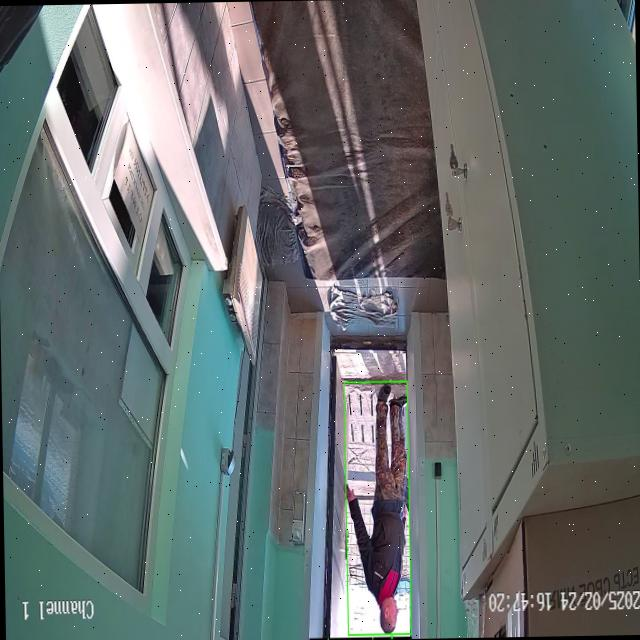Person: (346, 385, 407, 633)
